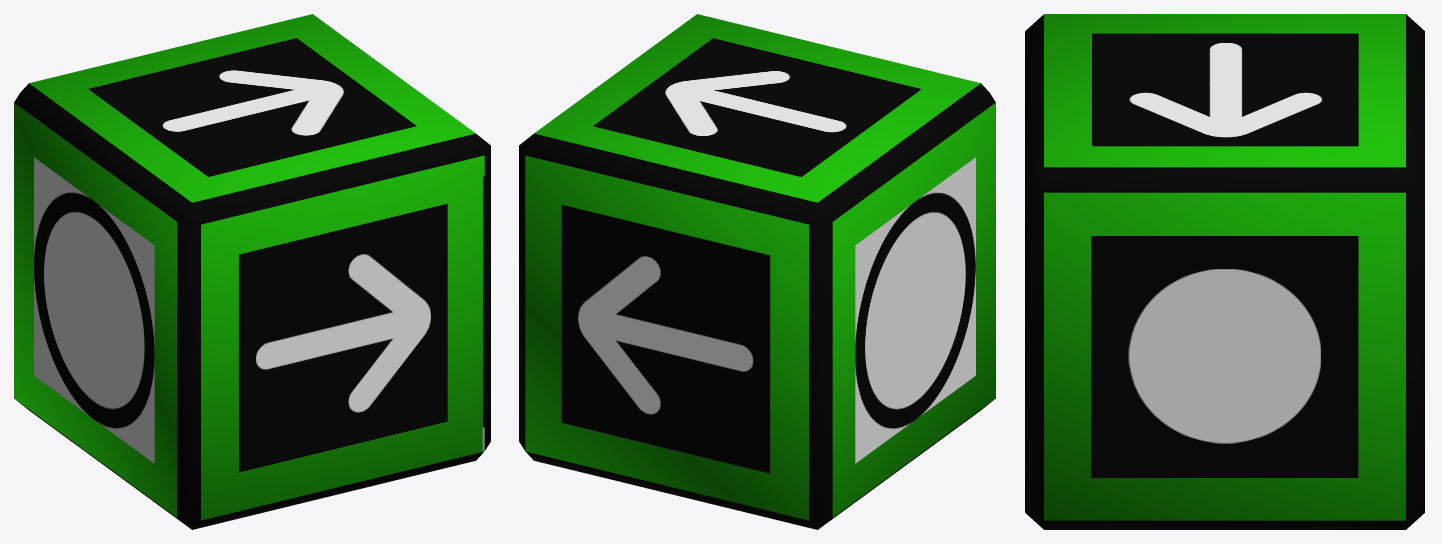
Rendered from BigBoxTapFlowBox_1_1_1_Line_test222.fbx.
3 renders of one model, left to right at view 1: azimuth 30°, elevation 25°; view 2: azimuth 150°, elevation 25°; view 3: azimuth 270°, elevation 25°, orthographic. The views are drawn at different scales.
Parts seen in each view (by area): view 1: BigBoxTapFlowBox_1_1_1_Line_test222; view 2: BigBoxTapFlowBox_1_1_1_Line_test222; view 3: BigBoxTapFlowBox_1_1_1_Line_test222.
Part boxes in pixels (box(x1,y1,x2,y2)): BigBoxTapFlowBox_1_1_1_Line_test222: box(14, 14, 490, 529); BigBoxTapFlowBox_1_1_1_Line_test222: box(519, 14, 995, 529); BigBoxTapFlowBox_1_1_1_Line_test222: box(1025, 14, 1424, 529).
Bounding box in the file's own units: 1.06 × 1.07 × 1.06.
